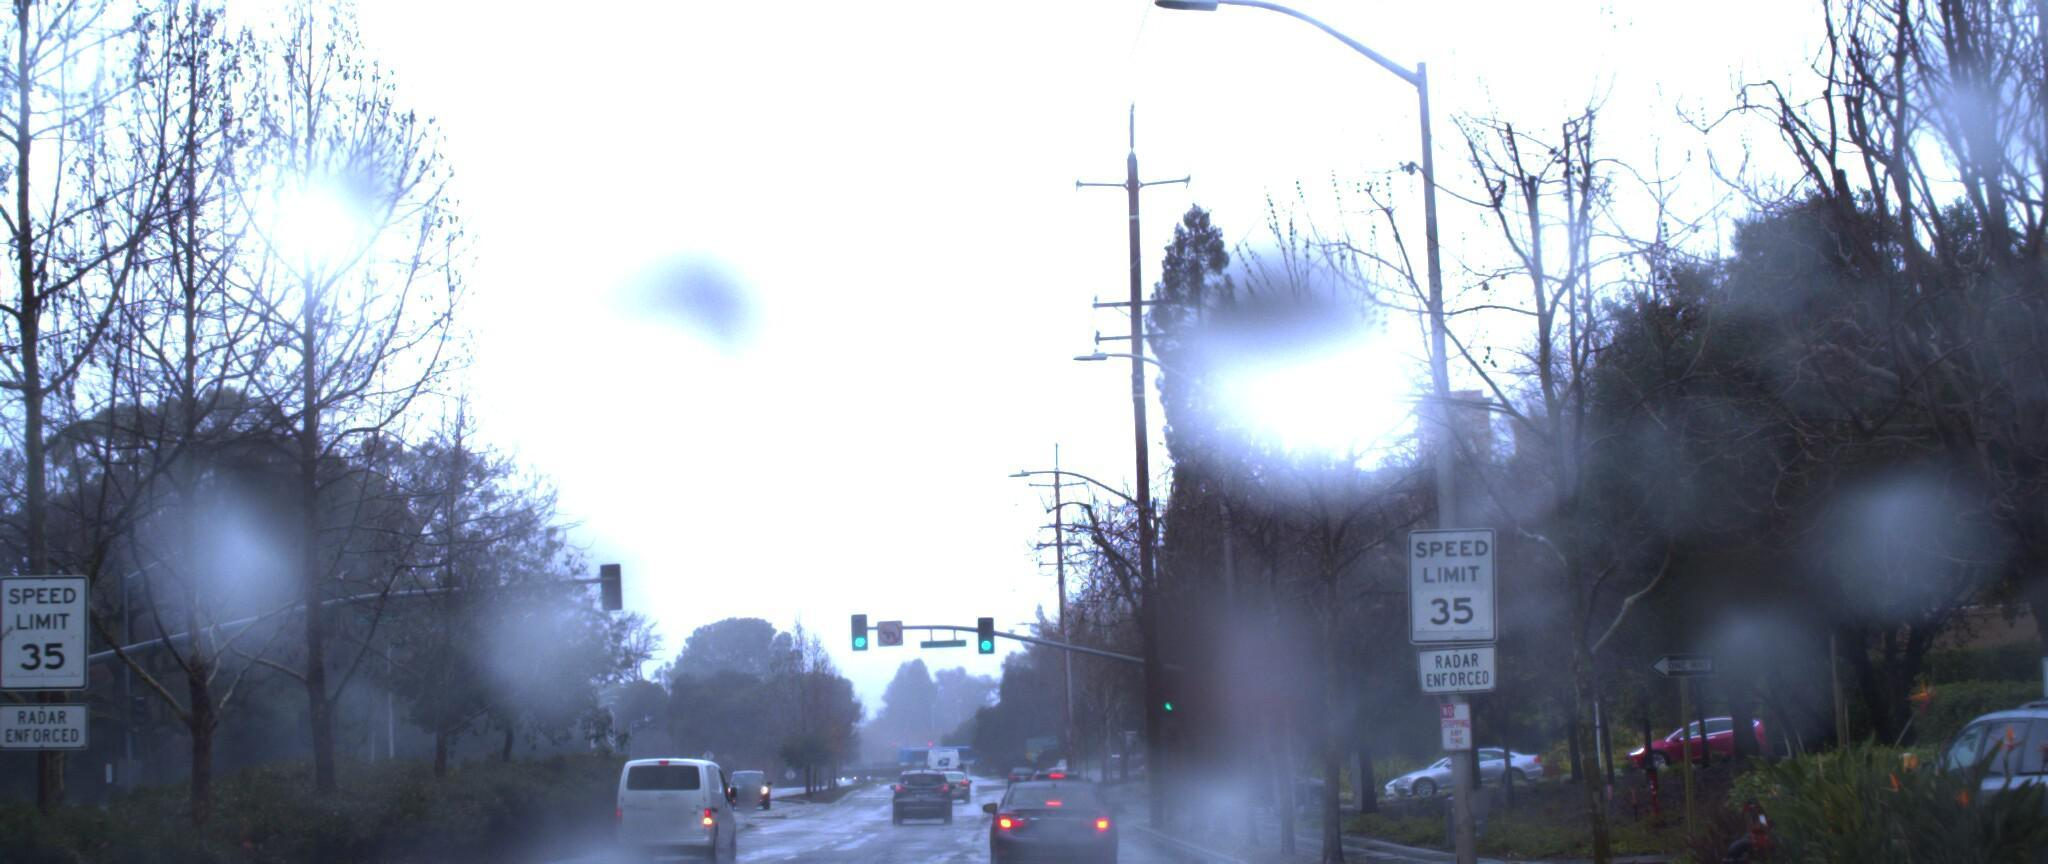car: (1853, 677, 2048, 864), (603, 733, 737, 841), (967, 765, 1108, 864)
